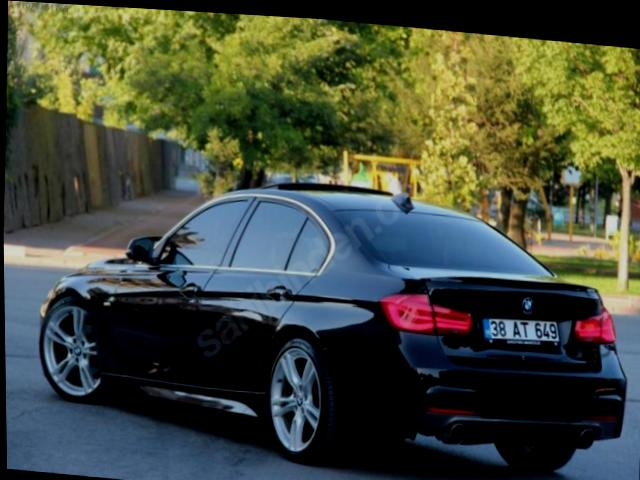plaka: (483, 318, 559, 345)
